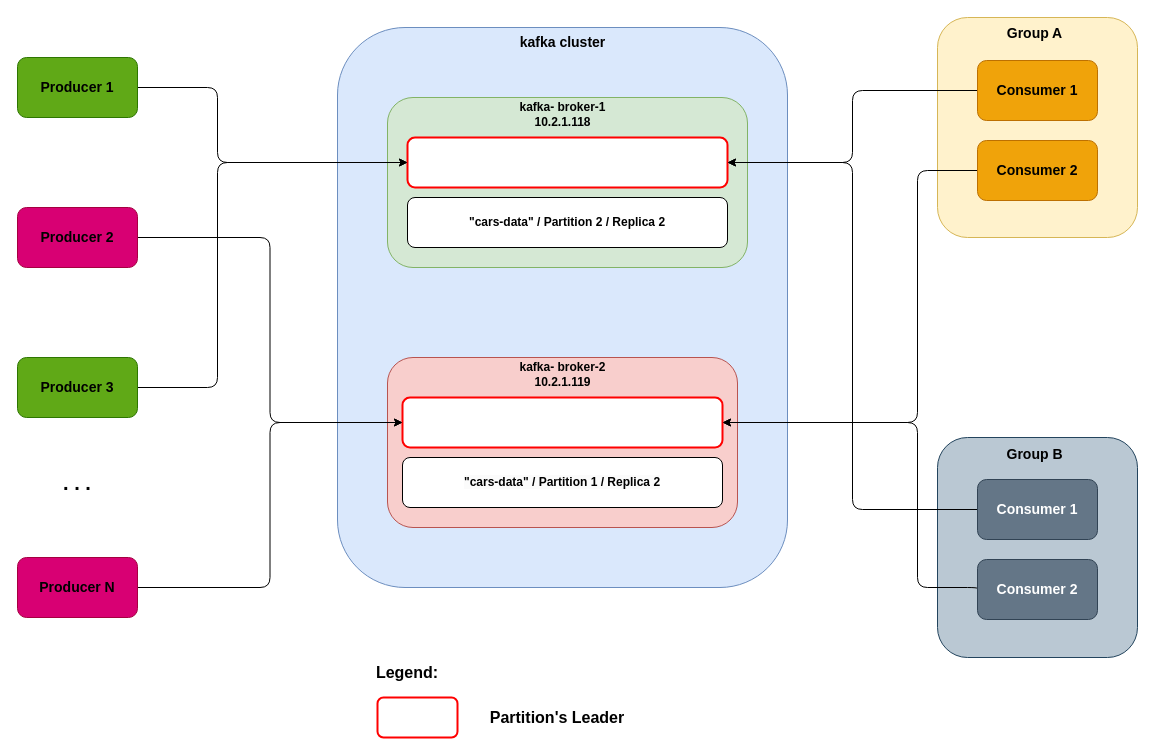
Some shapes in this 1155 by 756 pixel diagram are drawn without their labels. The centre of each missing label's shape, as x and y in pixels:
"cars-data" / Partition 1 / Replica 1: point (567, 162)
"cars-data" / Partition 2 / Replica 1: point (562, 422)
